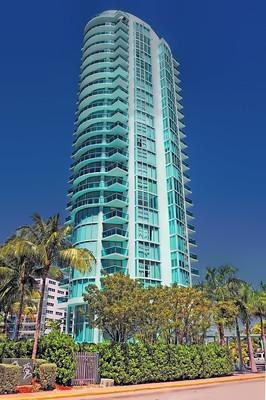building: (59, 5, 203, 357)
